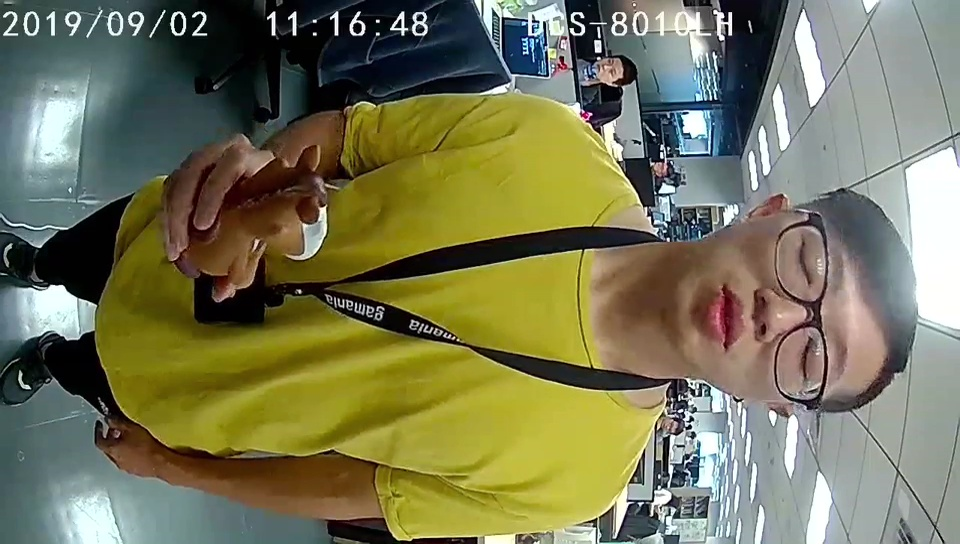horse: (236, 145, 329, 278)
